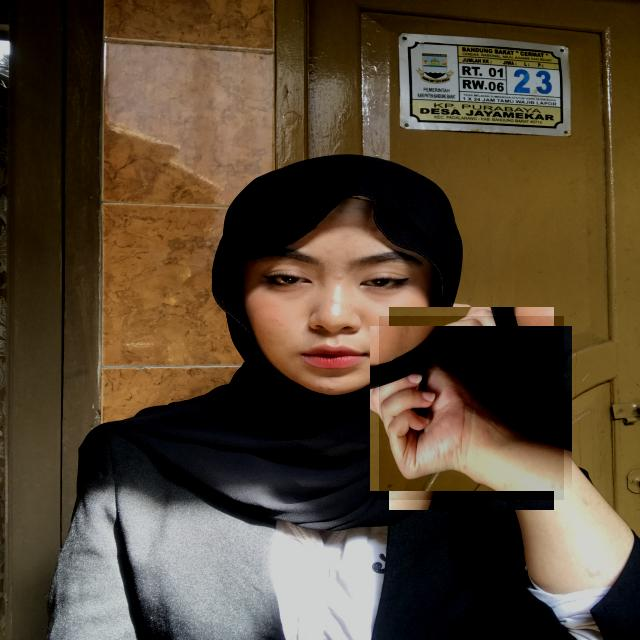ibu: (379, 316, 564, 500)
